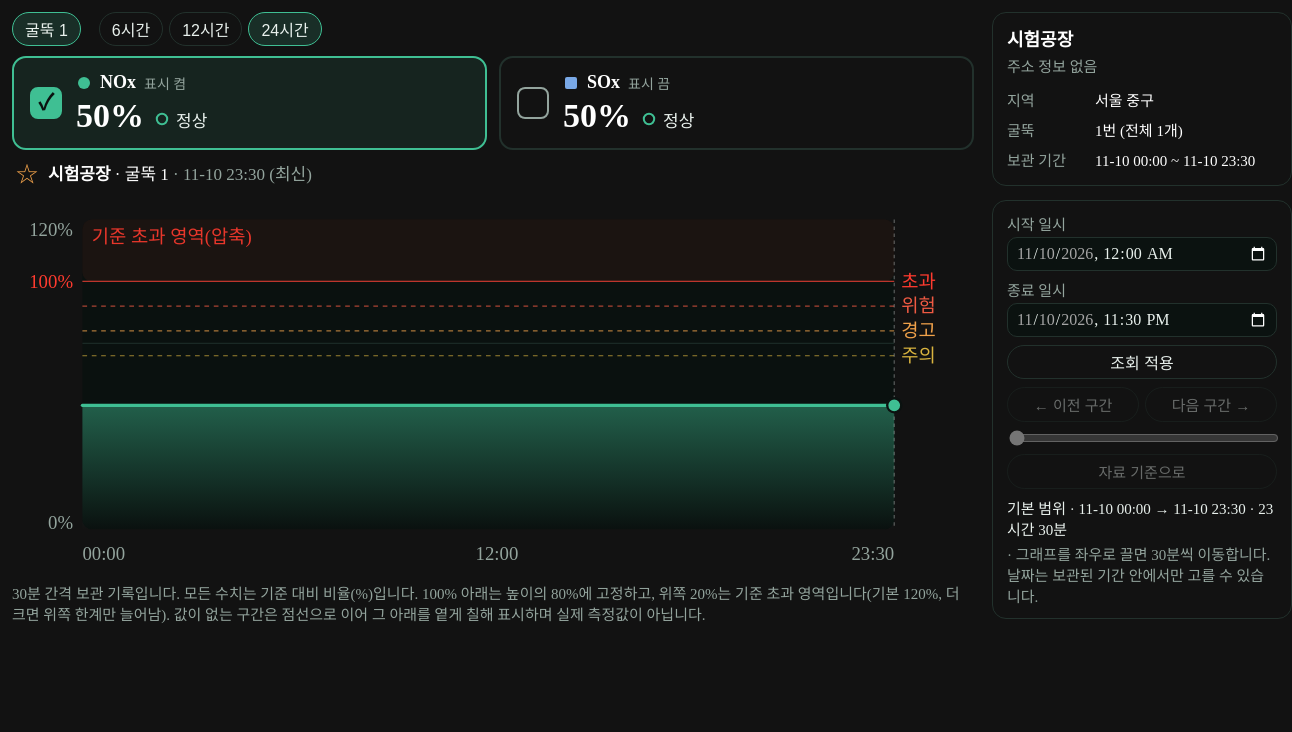
Test: 조회 범위: 달력·구간 이동·슬라이더·끌기 › 종료가 시작보다 앞이면 오류를 알리고 범위는 바뀌지 않는다
Replace the text in the field labelled "시작 일시" with "2026-11-10T12:00" at x=1142, y=254, box 1007,237 -> 1277,271
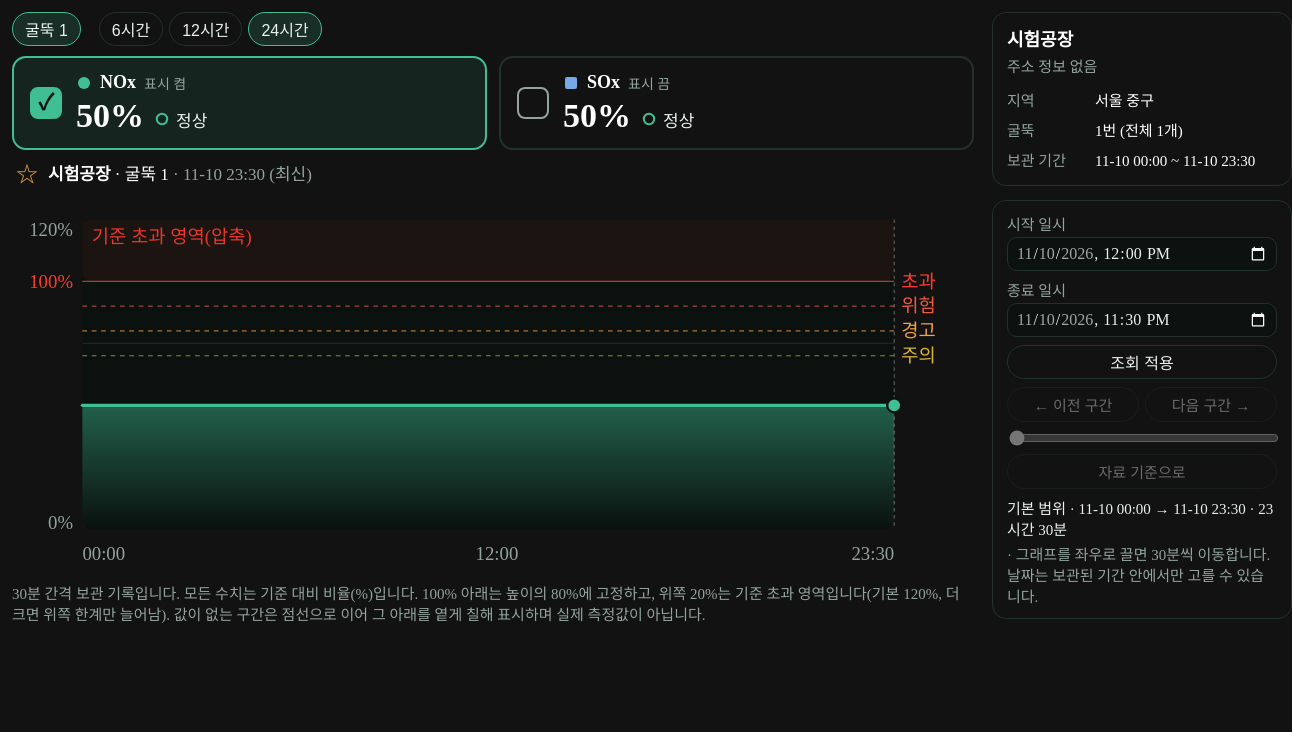
Replace the text in the field labelled "종료 일시" with "2026-11-10T09:00" at x=1142, y=320, box 1007,303 -> 1277,337
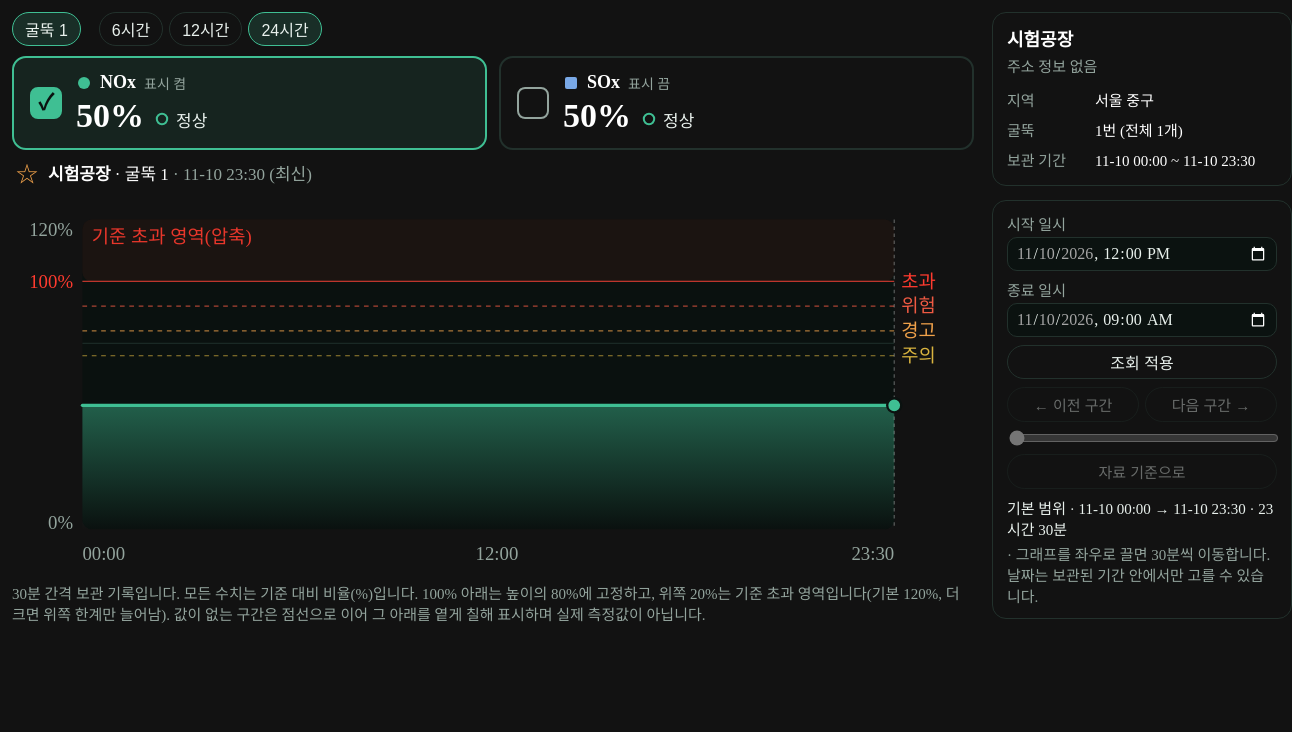
Click the button "조회 적용" at x=1142, y=362, box 1007,345 -> 1277,379
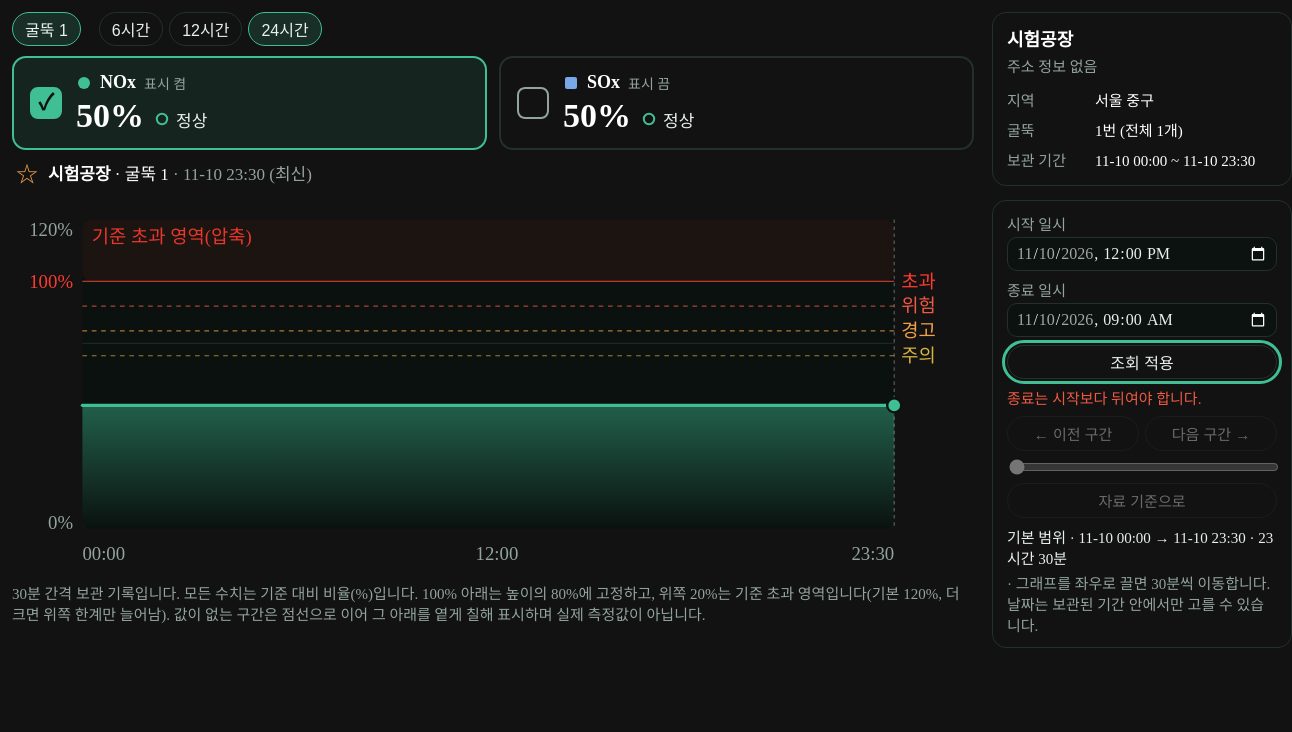
Now the message "종료는 시작보다 뒤여야 합니다." is shown, box 1007,391 -> 1201,407
